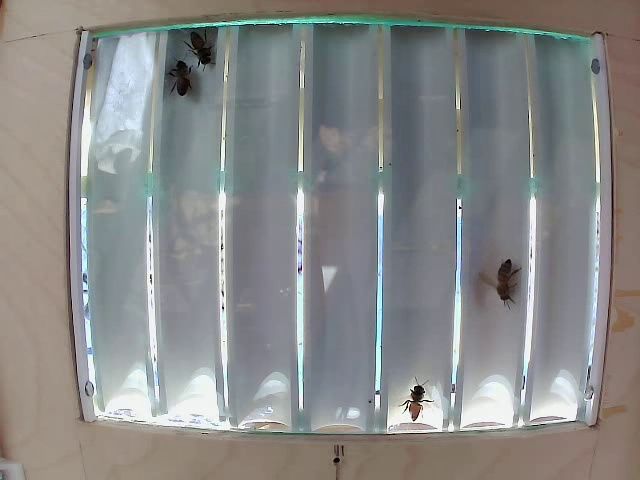bee: (483, 254, 522, 321), (394, 373, 437, 419), (190, 27, 224, 73), (164, 43, 196, 87)
